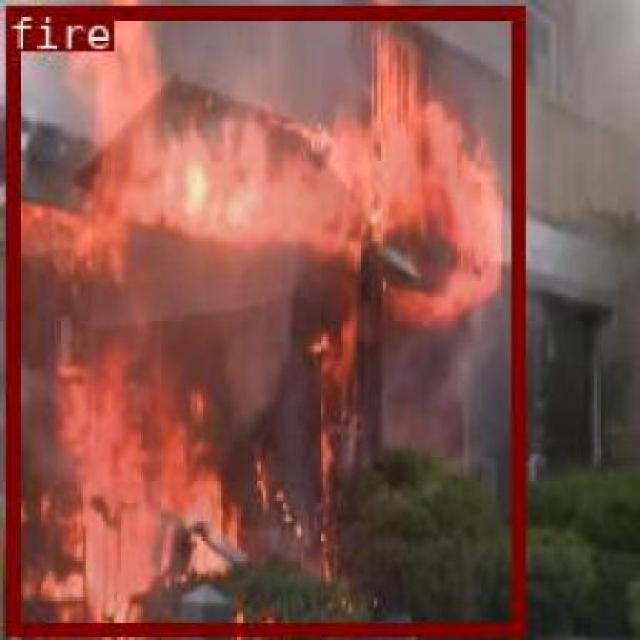Fire: (4, 3, 522, 632)
